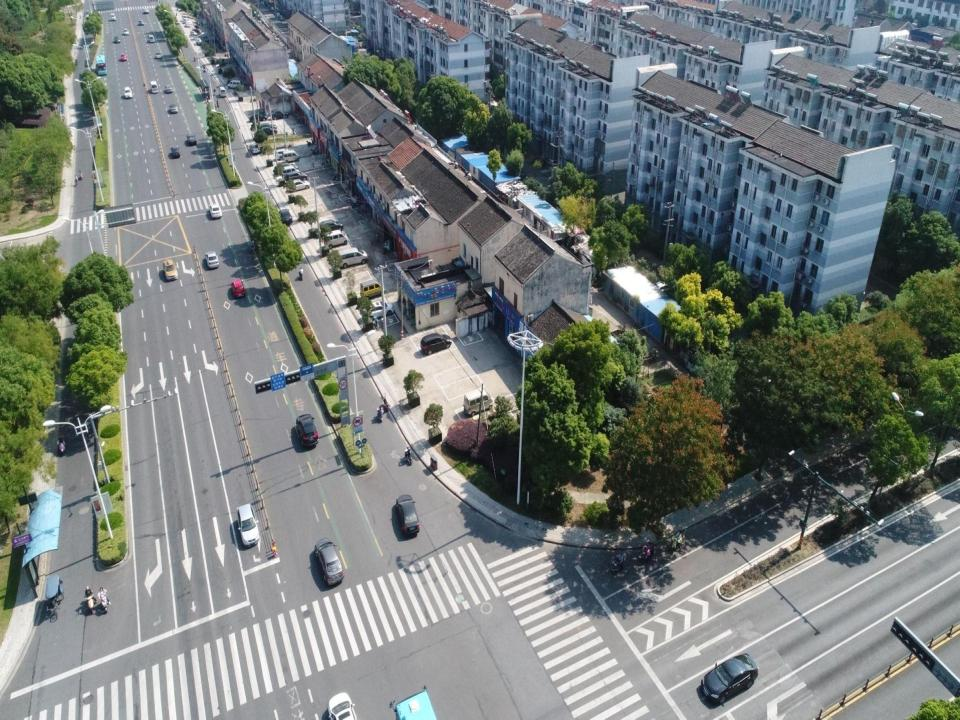car: (699, 650, 758, 710), (312, 535, 345, 586), (235, 503, 262, 548), (396, 495, 421, 534), (294, 411, 318, 447), (419, 331, 452, 356), (328, 693, 356, 719), (363, 302, 394, 321), (162, 259, 180, 281), (287, 178, 311, 192), (318, 220, 343, 233), (204, 250, 220, 268), (280, 165, 301, 178), (282, 172, 308, 182), (232, 276, 244, 296), (209, 202, 222, 220), (279, 208, 292, 226), (257, 126, 278, 136), (276, 148, 292, 160), (271, 109, 290, 118), (257, 123, 277, 131), (249, 113, 268, 121), (186, 134, 197, 146), (170, 146, 181, 157), (250, 142, 260, 154), (124, 86, 133, 99), (169, 103, 178, 113), (148, 33, 155, 43), (119, 53, 127, 61), (113, 36, 121, 44), (123, 27, 130, 36), (165, 85, 173, 92), (195, 38, 202, 46), (156, 51, 162, 59), (185, 20, 191, 27), (110, 12, 115, 20), (138, 19, 144, 25), (174, 17, 179, 24), (144, 7, 148, 13)
truck: (464, 389, 494, 416)
van: (336, 246, 368, 268), (359, 279, 383, 301), (324, 230, 348, 248), (282, 149, 301, 163), (228, 80, 241, 90), (150, 80, 159, 94), (219, 85, 226, 97)
